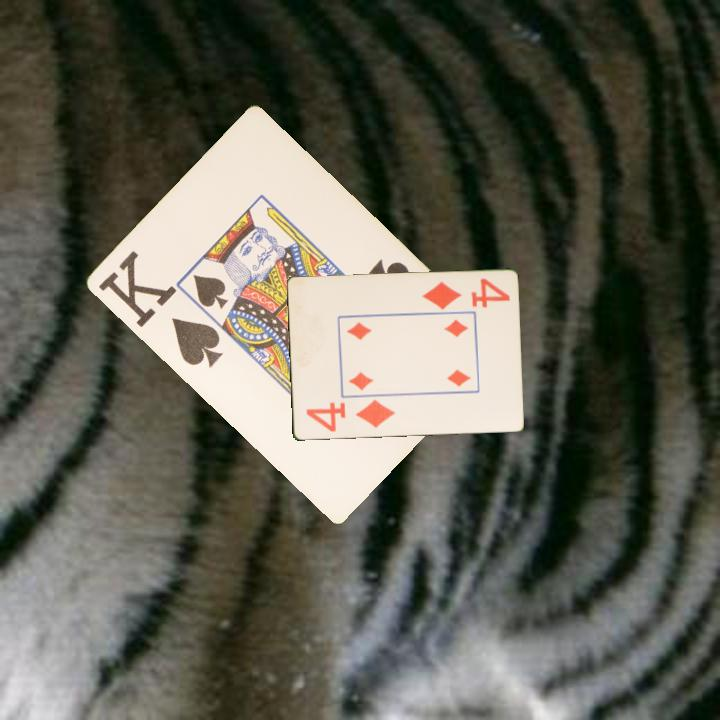4d: (302, 396, 397, 435), (418, 275, 512, 313)
Ks: (94, 247, 225, 372)
